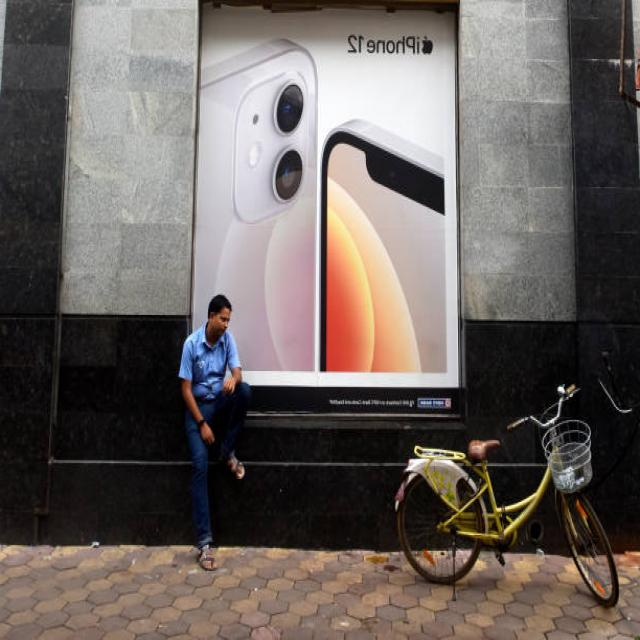Werbetafel frei: (189, 2, 459, 422)
